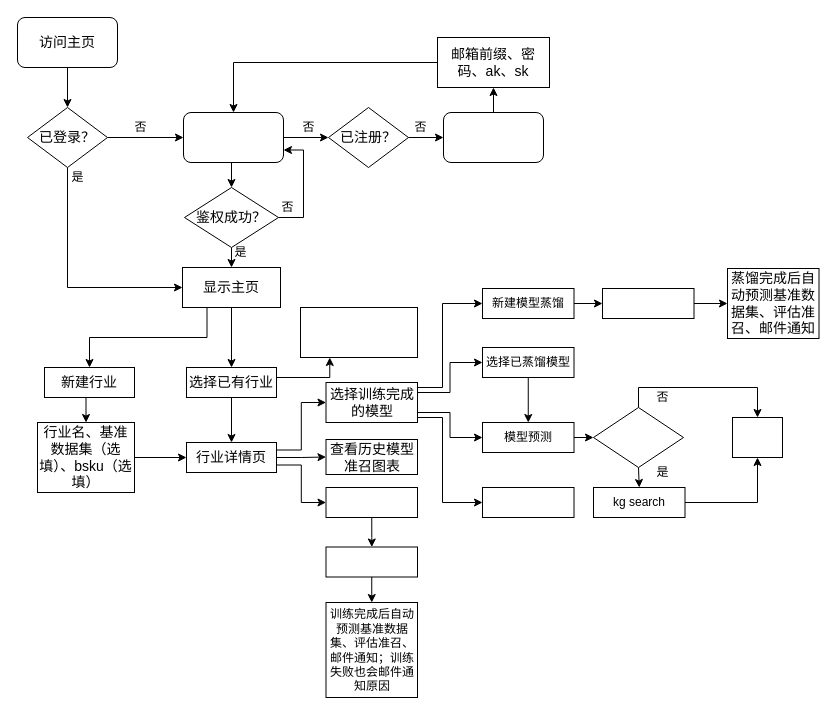
Some shapes in this 837 by 715 pixel diagram are drawn without their labels. The centre of each missing label's shape, as x and y in pixels:
基准数据集和bsku的上传、删除、下载: the point at 359,332
新建模型训练: the point at 371,502
是否search kg？: the point at 638,437
查看准召: the point at 528,502
模型选择、参数设定: the point at 371,561
蒸馏模型选择、参数设定: the point at 648,303
访问注册页: the point at 493,137
访问登录页: the point at 233,137
邮件通知预测结果: the point at 757,437
